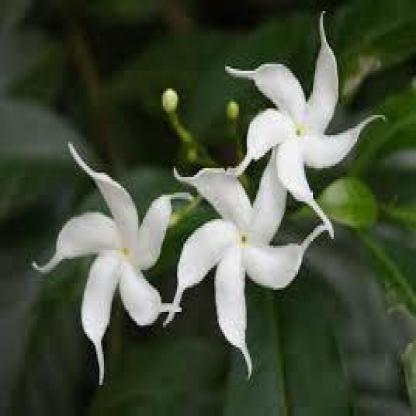Melati: (24, 132, 178, 373), (172, 119, 324, 358), (250, 8, 379, 202)
